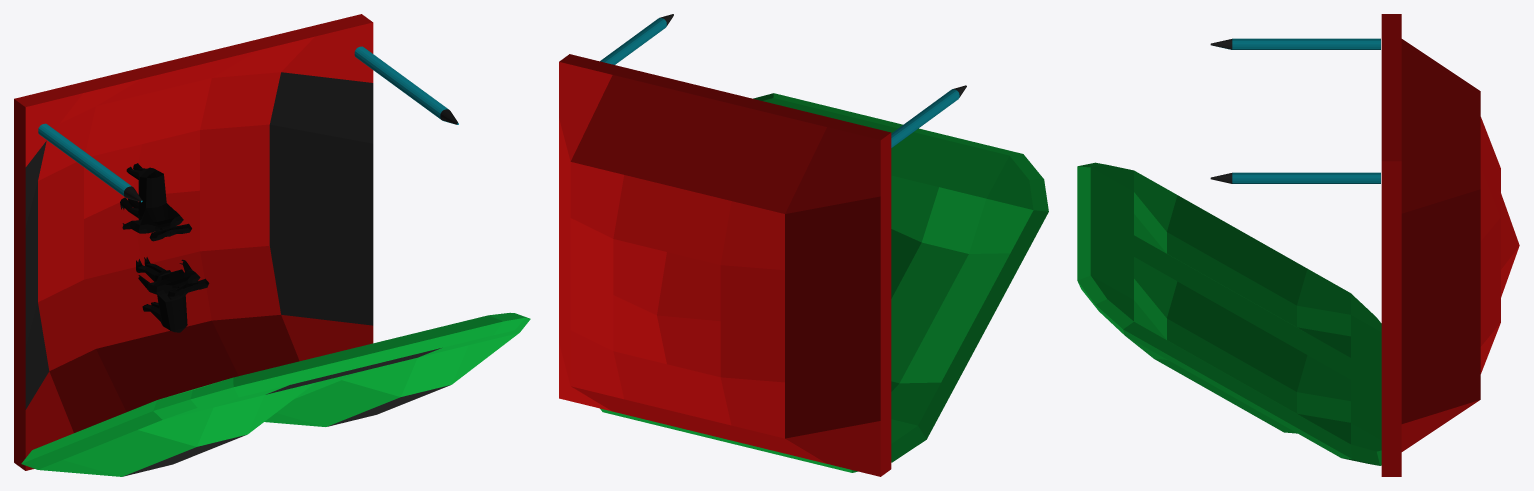
File: HoundPit.obj
3 renders of one model, left to right at view 1: azimuth 30°, elevation 25°; view 2: azimuth 150°, elevation 25°; view 3: azimuth 270°, elevation 25°, orthographic. The views are drawn at different scales.
Parts seen in each view (by area): view 1: Cube, Cube.001, Cube.004, Cube.005, Cube.002, Cube.003; view 2: Cube, Cube.001, Cube.002, Cube.003; view 3: Cube.001, Cube, Cube.003, Cube.002.
Boxes of the visible parts, x1,y1,x2,y2 form: Cube: (14, 14, 373, 470); Cube.001: (21, 312, 530, 476); Cube.004: (120, 163, 191, 241); Cube.005: (136, 257, 209, 332); Cube.002: (38, 123, 142, 202); Cube.003: (354, 46, 458, 124); Cube: (559, 54, 891, 476); Cube.001: (600, 93, 1048, 472); Cube.002: (891, 85, 966, 147); Cube.003: (600, 14, 673, 64); Cube.001: (1077, 162, 1381, 465); Cube: (1381, 14, 1519, 476); Cube.003: (1210, 172, 1380, 183); Cube.002: (1210, 38, 1380, 49).
Size of the model in its own units: 1.58 by 1.49 by 1.85.
